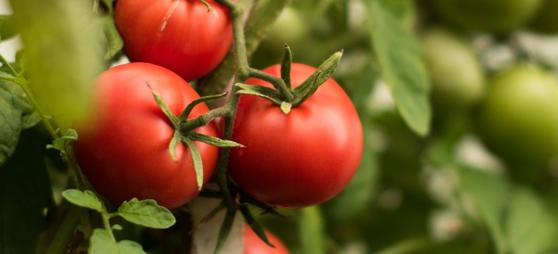tomato: (211, 62, 365, 200), (80, 66, 218, 203)
